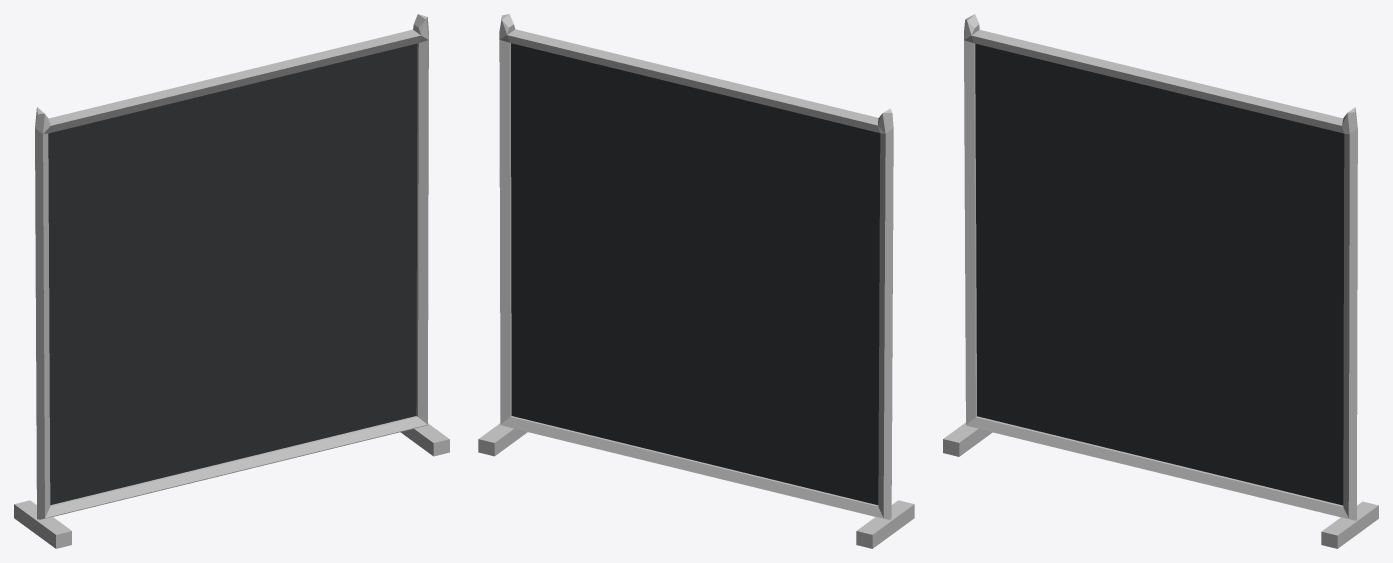
File: SM_Prop_Fence_Wire_01.obj
The picture shows the model from 3 angles, left to right: view 1: azimuth 30°, elevation 25°; view 2: azimuth 150°, elevation 25°; view 3: azimuth 330°, elevation 25°; orthographic projection.
Parts seen in each view (by area): view 1: SM_Prop_Fence_Wire_01_0, SM_Prop_Fence_Wire_01_1; view 2: SM_Prop_Fence_Wire_01_0, SM_Prop_Fence_Wire_01_1; view 3: SM_Prop_Fence_Wire_01_0, SM_Prop_Fence_Wire_01_1.
Part boxes in pixels (bbox=[...]): SM_Prop_Fence_Wire_01_0: bbox=[48, 43, 417, 505]; SM_Prop_Fence_Wire_01_1: bbox=[14, 14, 449, 548]; SM_Prop_Fence_Wire_01_0: bbox=[511, 43, 880, 505]; SM_Prop_Fence_Wire_01_1: bbox=[478, 14, 914, 548]; SM_Prop_Fence_Wire_01_0: bbox=[975, 43, 1344, 505]; SM_Prop_Fence_Wire_01_1: bbox=[943, 14, 1378, 548].
Size of the model in its own units: 2.61 by 2.67 by 0.4803.
